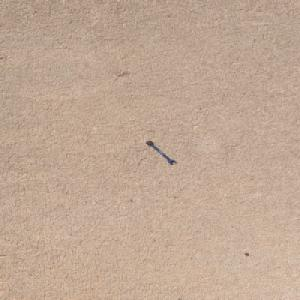Wrench: (145, 140, 177, 164)
